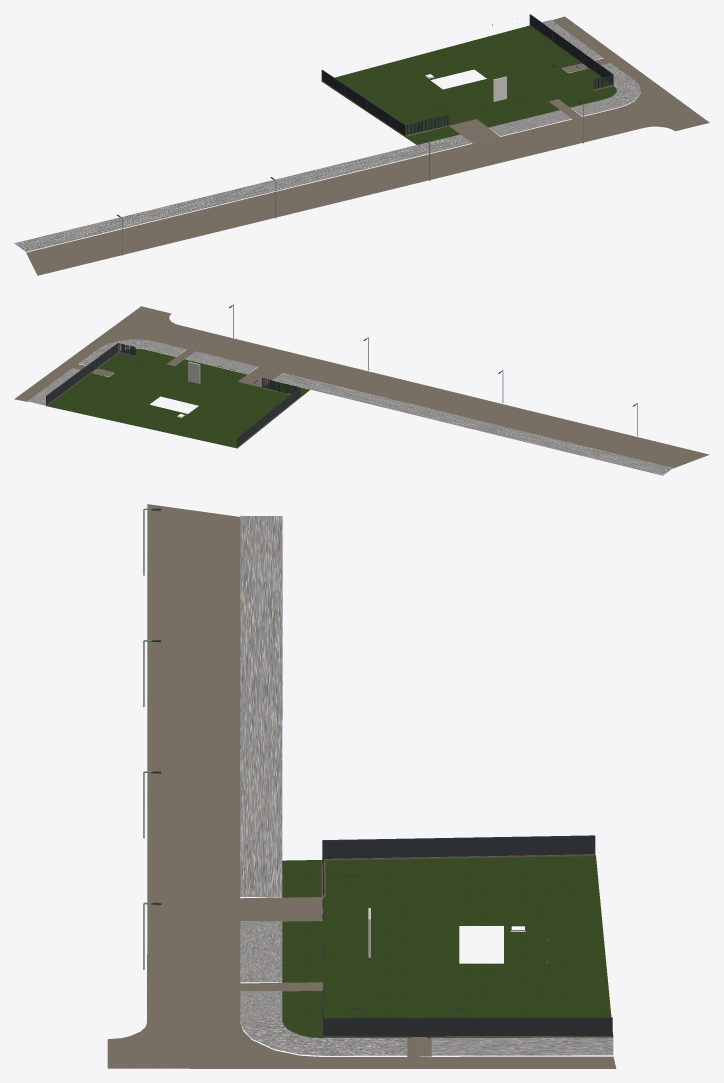
Rendered from dom-landscape.glb.
The picture shows the model from 3 angles, top to bottom: view 1: azimuth 30°, elevation 25°; view 2: azimuth 150°, elevation 25°; view 3: azimuth 270°, elevation 25°; orthographic projection. The views are drawn at different scales.
Parts seen in each view (by area): view 1: DOM_00001 | Parcela 6012/26 · 753 m², DOM_00005 | Miestna komunikácia 6012/1 · čelná vozovka po hr, DOM_00002 | Cestná rezerva 6012/1 · hlinená krajnica 1 s otv, DOM_00006 | Miestna komunikácia 6012/1 · rohová vetva v kata, DOM_01615 | Bočný plot · plné veľkoformátové polia RAL 7016, DOM_00003 | Cestná rezerva 6012/1 · hlinená krajnica 2 s otv, DOM_00007 | Bočná cestná rezerva 6012/1 · hlinená krajnica 1, DOM_00054 | Spádované samostatné napojenie GARAGE-DOOR · 25., DOM_00008 | Bočná cestná rezerva 6012/1 · hlinená krajnica 2, DOM_00004 | Cestná rezerva 6012/1 · hlinená krajnica 3 s otv; view 2: DOM_00001 | Parcela 6012/26 · 753 m², DOM_00005 | Miestna komunikácia 6012/1 · čelná vozovka po hr, DOM_00002 | Cestná rezerva 6012/1 · hlinená krajnica 1 s otv, DOM_00006 | Miestna komunikácia 6012/1 · rohová vetva v kata, DOM_01615 | Bočný plot · plné veľkoformátové polia RAL 7016, DOM_00003 | Cestná rezerva 6012/1 · hlinená krajnica 2 s otv, DOM_00007 | Bočná cestná rezerva 6012/1 · hlinená krajnica 1, DOM_00054 | Spádované samostatné napojenie GARAGE-DOOR · 25., DOM_00008 | Bočná cestná rezerva 6012/1 · hlinená krajnica 2, DOM_00004 | Cestná rezerva 6012/1 · hlinená krajnica 3 s otv; view 3: DOM_00001 | Parcela 6012/26 · 753 m², DOM_00005 | Miestna komunikácia 6012/1 · čelná vozovka po hr, DOM_00002 | Cestná rezerva 6012/1 · hlinená krajnica 1 s otv, DOM_00006 | Miestna komunikácia 6012/1 · rohová vetva v kata, DOM_01615 | Bočný plot · plné veľkoformátové polia RAL 7016, DOM_00008 | Bočná cestná rezerva 6012/1 · hlinená krajnica 2, DOM_00007 | Bočná cestná rezerva 6012/1 · hlinená krajnica 1, DOM_00003 | Cestná rezerva 6012/1 · hlinená krajnica 2 s otv, DOM_00054 | Spádované samostatné napojenie GARAGE-DOOR · 25., DOM_00004 | Cestná rezerva 6012/1 · hlinená krajnica 3 s otv, DOM_01619 | Plot · nízky pohľadový sokel, DOM_01617 | Bočný plot · presné horné krytky.
Boxes of the visible parts, left/top/right/bottom form: DOM_00001 | Parcela 6012/26 · 753 m²: left=321, top=25, right=616, bottom=144; DOM_00005 | Miestna komunikácia 6012/1 · čelná vozovka po hr: left=26, top=108, right=643, bottom=275; DOM_00002 | Cestná rezerva 6012/1 · hlinená krajnica 1 s otv: left=14, top=134, right=471, bottom=251; DOM_00006 | Miestna komunikácia 6012/1 · rohová vetva v kata: left=552, top=16, right=709, bottom=131; DOM_01615 | Bočný plot · plné veľkoformátové polia RAL 7016: left=322, top=15, right=612, bottom=135; DOM_00003 | Cestná rezerva 6012/1 · hlinená krajnica 2 s otv: left=489, top=110, right=571, bottom=136; DOM_00007 | Bočná cestná rezerva 6012/1 · hlinená krajnica 1: left=601, top=63, right=640, bottom=107; DOM_00054 | Spádované samostatné napojenie GARAGE-DOOR · 25.: left=449, top=119, right=499, bottom=143; DOM_00008 | Bočná cestná rezerva 6012/1 · hlinená krajnica 2: left=542, top=20, right=602, bottom=59; DOM_00004 | Cestná rezerva 6012/1 · hlinená krajnica 3 s otv: left=570, top=99, right=616, bottom=116; DOM_00001 | Parcela 6012/26 · 753 m²: left=46, top=348, right=309, bottom=448; DOM_00005 | Miestna komunikácia 6012/1 · čelná vozovka po hr: left=156, top=325, right=709, bottom=468; DOM_00002 | Cestná rezerva 6012/1 · hlinená krajnica 1 s otv: left=273, top=372, right=672, bottom=475; DOM_00006 | Miestna komunikácia 6012/1 · rohová vetva v kata: left=14, top=306, right=178, bottom=401; DOM_01615 | Bočný plot · plné veľkoformátové polia RAL 7016: left=46, top=343, right=300, bottom=446; DOM_00003 | Cestná rezerva 6012/1 · hlinená krajnica 2 s otv: left=185, top=351, right=257, bottom=374; DOM_00007 | Bočná cestná rezerva 6012/1 · hlinená krajnica 1: left=79, top=339, right=155, bottom=365; DOM_00054 | Spádované samostatné napojenie GARAGE-DOOR · 25.: left=238, top=367, right=281, bottom=387; DOM_00008 | Bočná cestná rezerva 6012/1 · hlinená krajnica 2: left=28, top=368, right=80, bottom=405; DOM_00004 | Cestná rezerva 6012/1 · hlinená krajnica 3 s otv: left=145, top=341, right=186, bottom=356; DOM_00001 | Parcela 6012/26 · 753 m²: left=282, top=855, right=613, bottom=1037; DOM_00005 | Miestna komunikácia 6012/1 · čelná vozovka po hr: left=147, top=504, right=240, bottom=1022; DOM_00002 | Cestná rezerva 6012/1 · hlinená krajnica 1 s otv: left=240, top=515, right=282, bottom=897; DOM_00006 | Miestna komunikácia 6012/1 · rohová vetva v kata: left=107, top=1022, right=616, bottom=1068; DOM_01615 | Bočný plot · plné veľkoformátové polia RAL 7016: left=323, top=836, right=611, bottom=1036; DOM_00008 | Bočná cestná rezerva 6012/1 · hlinená krajnica 2: left=431, top=1037, right=613, bottom=1055; DOM_00007 | Bočná cestná rezerva 6012/1 · hlinená krajnica 1: left=240, top=1021, right=407, bottom=1055; DOM_00003 | Cestná rezerva 6012/1 · hlinená krajnica 2 s otv: left=240, top=921, right=282, bottom=982; DOM_00054 | Spádované samostatné napojenie GARAGE-DOOR · 25.: left=240, top=897, right=322, bottom=921; DOM_00004 | Cestná rezerva 6012/1 · hlinená krajnica 3 s otv: left=240, top=991, right=282, bottom=1020; DOM_01619 | Plot · nízky pohľadový sokel: left=322, top=854, right=611, bottom=1038; DOM_01617 | Bočný plot · presné horné krytky: left=323, top=835, right=611, bottom=1018.
Size of what is drawn, in the model's own units: 98.89 by 5.44 by 37.64.
11 materials, 7 textured.
